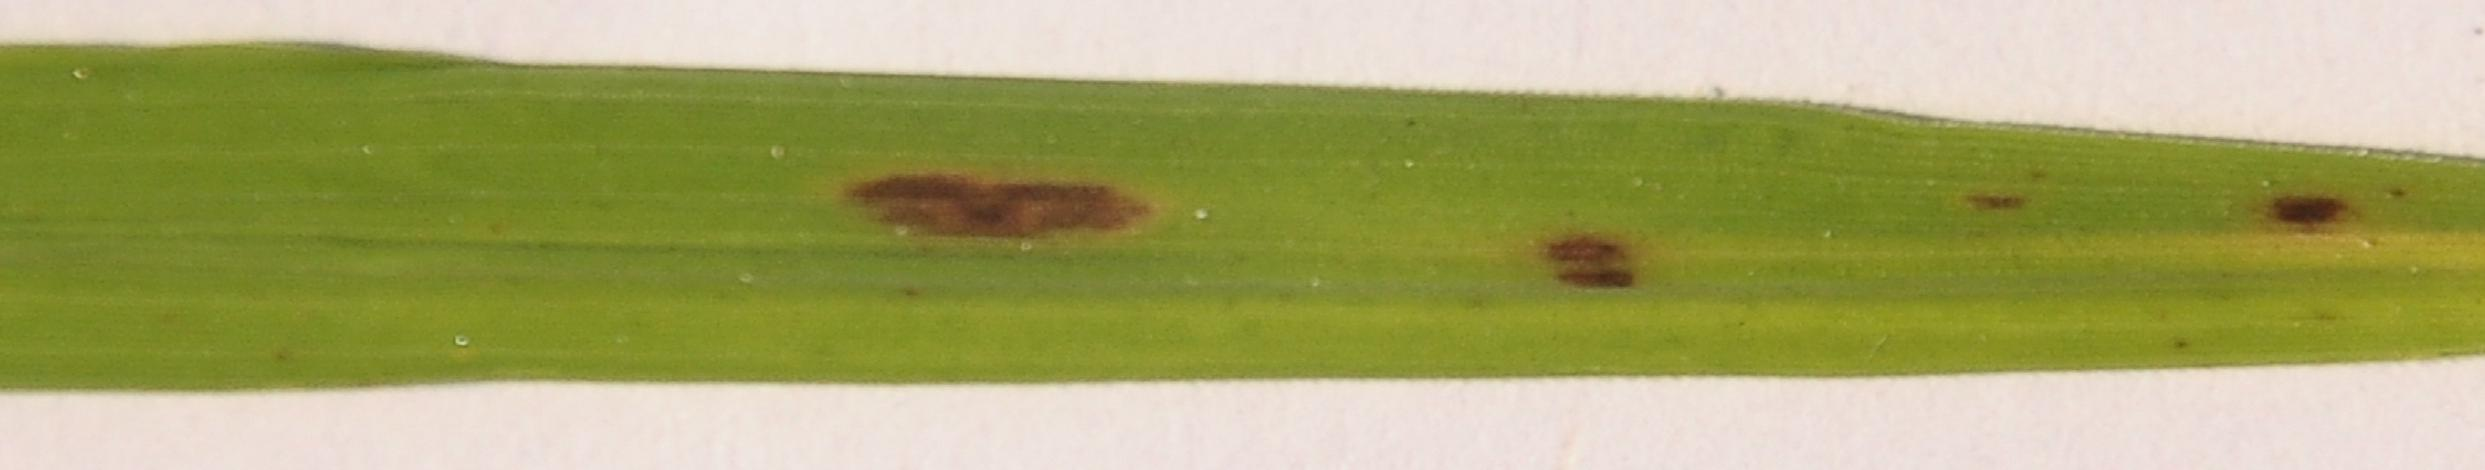brown_spot: (783, 120, 1678, 328)
